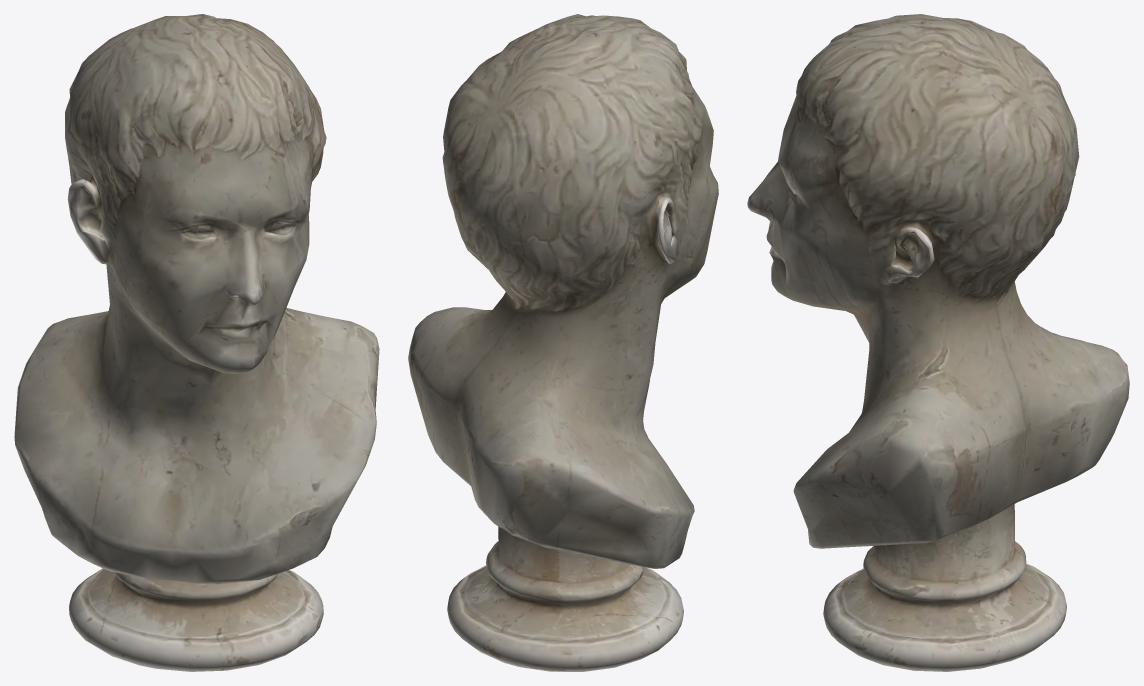
The model's file is marble_bust_01.light.glb.
3 renders of one model, left to right at view 1: azimuth 30°, elevation 25°; view 2: azimuth 150°, elevation 25°; view 3: azimuth 270°, elevation 25°, orthographic. The views are drawn at different scales.
Parts seen in each view (by area): view 1: marble_bust_01; view 2: marble_bust_01; view 3: marble_bust_01.
Boxes of the visible parts, x1,y1,x2,y2 form: marble_bust_01: [14, 14, 379, 671]; marble_bust_01: [408, 14, 718, 671]; marble_bust_01: [747, 14, 1129, 671].
Bounding box in the file's own units: 1.81 × 3.43 × 2.
Materials: 1 (1 with a texture image).
